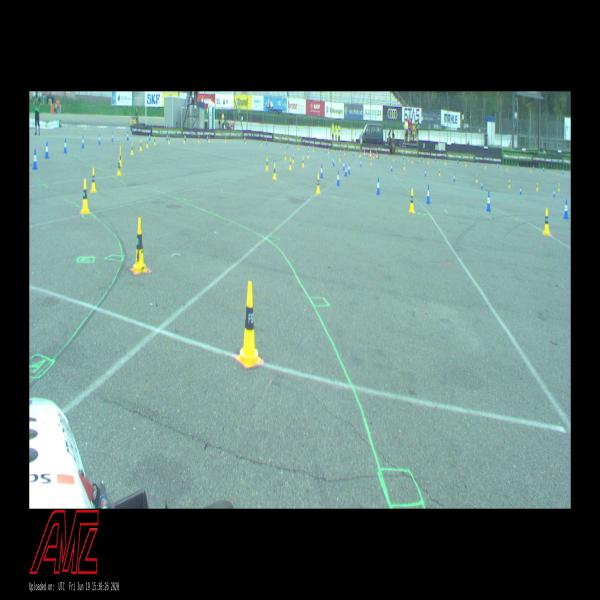blue_cone: (32, 150, 38, 169), (486, 192, 491, 212), (564, 200, 569, 220), (426, 185, 431, 204), (376, 177, 380, 195), (45, 142, 49, 158), (337, 170, 340, 186), (64, 139, 67, 153), (320, 165, 323, 178), (98, 134, 101, 144), (82, 136, 84, 148), (348, 163, 350, 174), (345, 166, 347, 176), (343, 160, 345, 170), (112, 132, 114, 142), (127, 132, 129, 141), (553, 188, 555, 197), (333, 157, 335, 166), (149, 132, 151, 141), (481, 180, 483, 188), (520, 186, 522, 194), (166, 133, 168, 141), (360, 159, 362, 167), (457, 158, 459, 164), (454, 174, 455, 182), (425, 169, 426, 177), (391, 164, 392, 172), (562, 170, 564, 174), (477, 160, 478, 167), (386, 152, 387, 158), (421, 155, 422, 161), (498, 163, 499, 168), (543, 167, 544, 172), (534, 165, 534, 170), (518, 164, 518, 169)
yellow_cone: (237, 282, 261, 368), (132, 218, 148, 273), (81, 180, 90, 214), (543, 208, 550, 235), (90, 168, 97, 193), (409, 189, 415, 214), (316, 174, 321, 194), (116, 160, 122, 176), (119, 146, 122, 165), (273, 163, 276, 178), (131, 143, 134, 154), (146, 138, 149, 148), (266, 158, 268, 170), (289, 158, 291, 170), (140, 140, 142, 151), (302, 157, 304, 168), (154, 136, 156, 146), (558, 183, 560, 191), (168, 136, 170, 144), (536, 183, 538, 191), (439, 168, 441, 176), (508, 180, 510, 188), (476, 174, 478, 182), (307, 150, 309, 158), (403, 163, 405, 170), (370, 158, 372, 165), (339, 154, 341, 161), (557, 170, 559, 176), (225, 136, 227, 142), (198, 136, 200, 142), (208, 136, 210, 142), (260, 140, 262, 146), (506, 166, 508, 171), (465, 161, 467, 166), (293, 154, 294, 163), (285, 152, 286, 160), (184, 136, 185, 144), (530, 167, 531, 173), (445, 159, 446, 165), (328, 148, 329, 154), (344, 150, 345, 156), (428, 158, 429, 163), (485, 164, 486, 169), (393, 156, 394, 161), (313, 146, 314, 151), (298, 145, 299, 150), (360, 151, 360, 156), (412, 158, 412, 163)
